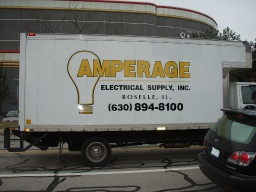car: (198, 107, 256, 192)
truck: (17, 30, 256, 164)
